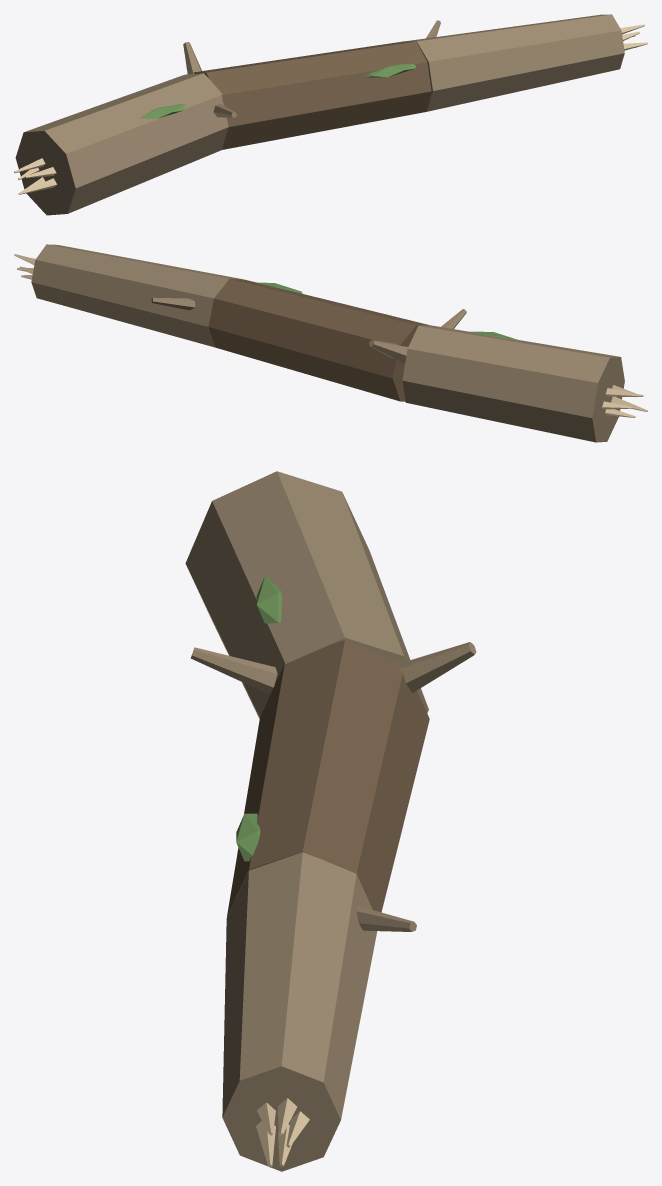
File: broken_tree_01.glb
3 views of the same model, one above another, from view 1: azimuth 30°, elevation 25°; view 2: azimuth 150°, elevation 25°; view 3: azimuth 270°, elevation 25° (orthographic). The views are drawn at different scales.
Visible parts, largest first — view 1: broken_tree_01_trunk_segment_1, broken_tree_01_trunk_segment_2, broken_tree_01_trunk_segment_3, broken_tree_01_moss_patch_3, broken_tree_01_moss_patch_1, broken_tree_01_branch_stub_1; view 2: broken_tree_01_trunk_segment_1, broken_tree_01_trunk_segment_2, broken_tree_01_trunk_segment_3, broken_tree_01_branch_stub_1, broken_tree_01_branch_stub_3; view 3: broken_tree_01_trunk_segment_3, broken_tree_01_trunk_segment_2, broken_tree_01_trunk_segment_1, broken_tree_01_branch_stub_1, broken_tree_01_branch_stub_2, broken_tree_01_branch_stub_3.
Boxes of the visible parts, <box> form: broken_tree_01_trunk_segment_1: <box>15,73,228,215</box>; broken_tree_01_trunk_segment_2: <box>194,41,431,149</box>; broken_tree_01_trunk_segment_3: <box>406,14,624,111</box>; broken_tree_01_moss_patch_3: <box>365,63,415,77</box>; broken_tree_01_moss_patch_1: <box>140,104,185,118</box>; broken_tree_01_branch_stub_1: <box>183,42,201,74</box>; broken_tree_01_trunk_segment_1: <box>402,325,624,442</box>; broken_tree_01_trunk_segment_2: <box>208,279,428,401</box>; broken_tree_01_trunk_segment_3: <box>31,244,243,347</box>; broken_tree_01_branch_stub_1: <box>369,340,408,364</box>; broken_tree_01_branch_stub_3: <box>151,297,195,310</box>; broken_tree_01_trunk_segment_3: <box>222,852,377,1171</box>; broken_tree_01_trunk_segment_2: <box>227,640,429,916</box>; broken_tree_01_trunk_segment_1: <box>185,471,428,718</box>; broken_tree_01_branch_stub_1: <box>399,642,476,692</box>; broken_tree_01_branch_stub_2: <box>190,647,277,693</box>; broken_tree_01_branch_stub_3: <box>356,906,416,931</box>.
Size of the model in its own units: 6.82 by 0.9448 by 1.37.
